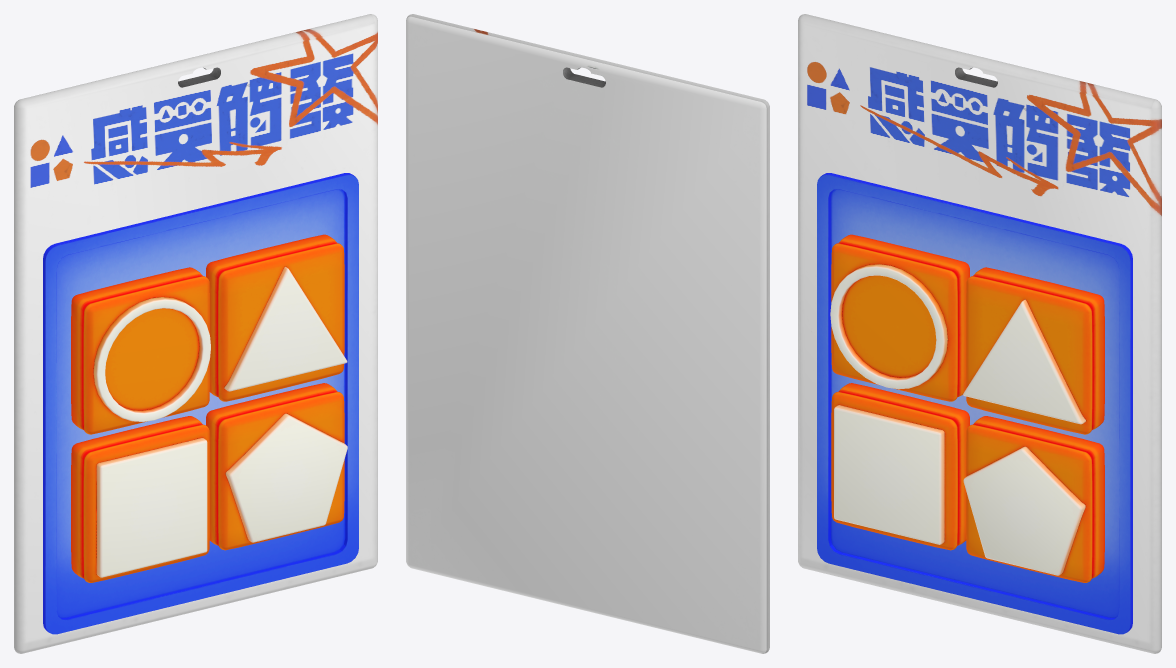
File: ALLproduct_base_HighColor.glb
The picture shows the model from 3 angles, left to right: view 1: azimuth 30°, elevation 25°; view 2: azimuth 150°, elevation 25°; view 3: azimuth 330°, elevation 25°; orthographic projection.
Parts seen in each view (by area): view 1: 背板_工作區域 1.002, 背板_工作區域 1.003, Cube.001, Cube.003, Cube.002, Cylinder.005, Cube.007, Cylinder.003, Cube.005, Sphere.001; view 2: 背板_工作區域 1.002; view 3: 背板_工作區域 1.002, 背板_工作區域 1.003, Cube.001, Cube.003, Cube.002, Cylinder.005, Cube.007, Cylinder.003, Cube.005, Sphere.001.
Part boxes in pixels (x1,y1,x2,y2): 背板_工作區域 1.002: [14, 14, 377, 653]; 背板_工作區域 1.003: [43, 173, 358, 634]; Cube.001: [71, 267, 209, 434]; Cube.003: [96, 438, 207, 577]; Cube.002: [206, 234, 344, 401]; Cylinder.005: [225, 413, 347, 542]; Cube.007: [206, 383, 344, 550]; Cylinder.003: [224, 266, 347, 391]; Cube.005: [71, 416, 209, 582]; Sphere.001: [93, 297, 210, 421]; 背板_工作區域 1.002: [406, 14, 769, 653]; 背板_工作區域 1.002: [798, 14, 1161, 653]; 背板_工作區域 1.003: [817, 173, 1132, 634]; Cube.001: [831, 234, 969, 401]; Cube.003: [834, 405, 944, 544]; Cube.002: [966, 267, 1104, 434]; Cylinder.005: [963, 446, 1085, 575]; Cube.007: [966, 416, 1104, 582]; Cylinder.003: [963, 299, 1085, 424]; Cube.005: [831, 383, 969, 550]; Sphere.001: [830, 264, 947, 389].
Size of the model in its own units: 3.41 by 4.97 by 0.4794.
Materials: 6 (6 with a texture image).
